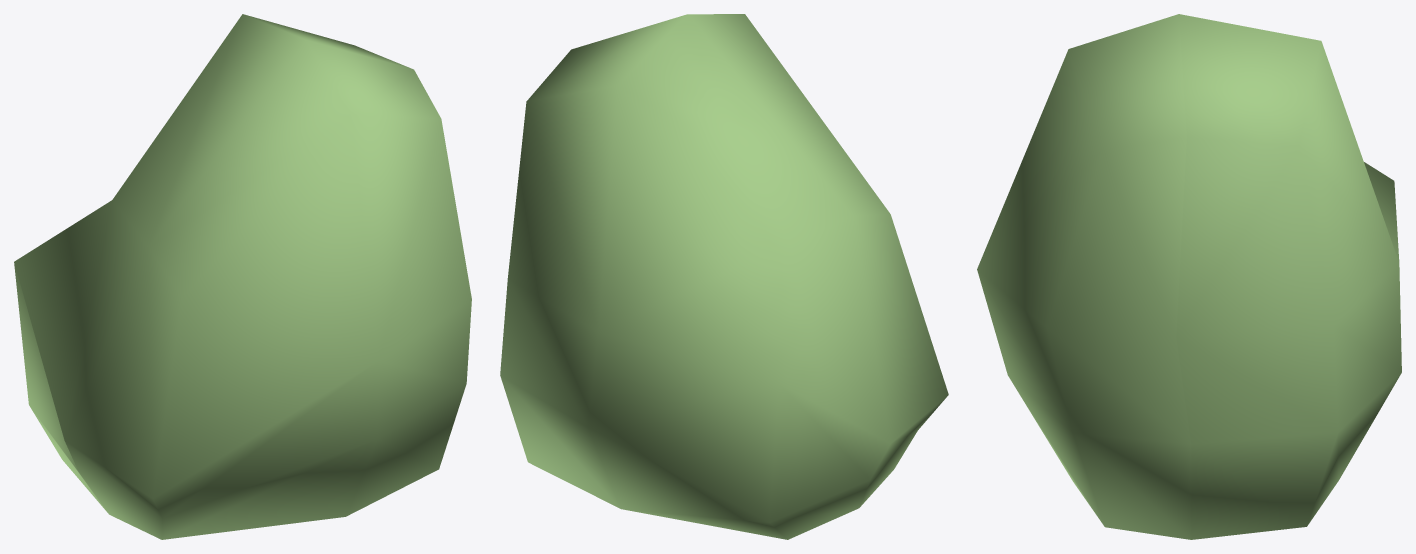
File: OBJ_Rock_B_002.fbx
3 views of the same model, side by side, from view 1: azimuth 30°, elevation 25°; view 2: azimuth 150°, elevation 25°; view 3: azimuth 270°, elevation 25° (orthographic). The views are drawn at different scales.
Visible parts, largest first — view 1: Rock_B_002; view 2: Rock_B_002; view 3: Rock_B_002.
Boxes of the visible parts, x1,y1,x2,y2 form: Rock_B_002: [14, 14, 471, 539]; Rock_B_002: [500, 14, 948, 539]; Rock_B_002: [977, 14, 1401, 539].
Bounding box in the file's own units: 910 × 1072 × 874.
